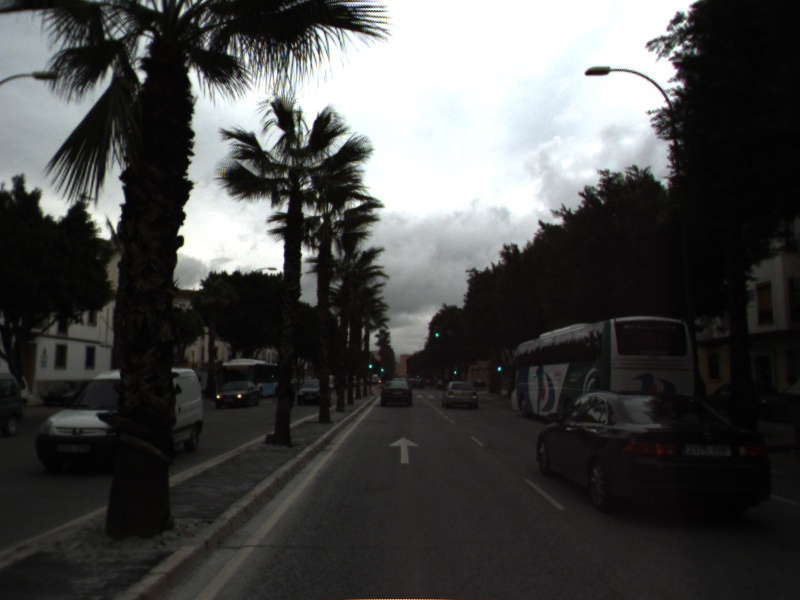STRAIGHT: (387, 434, 422, 466)
